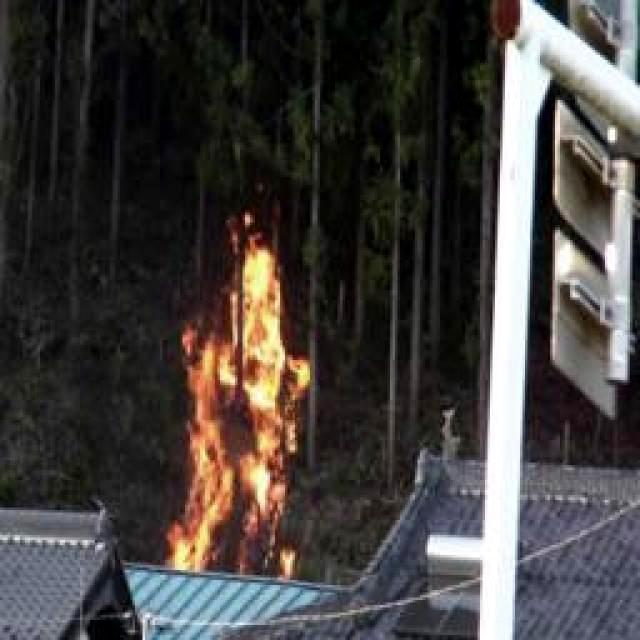fire: (172, 230, 316, 582)
